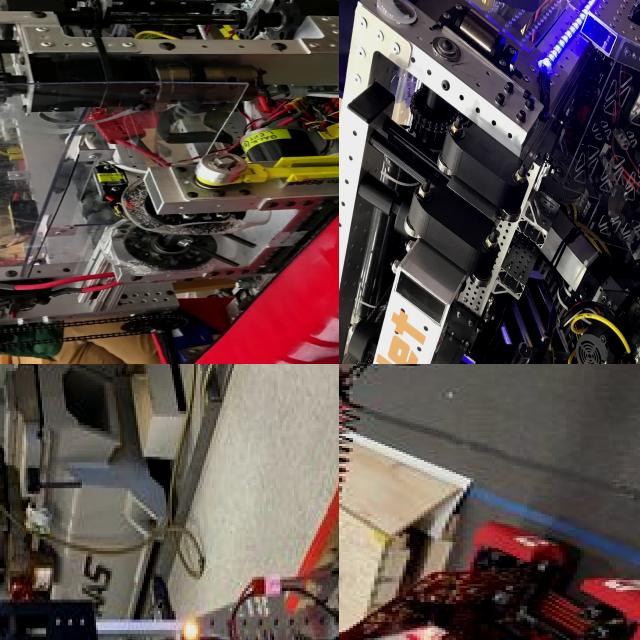FRC-Robots: (0, 0, 339, 364), (339, 364, 640, 640), (0, 427, 339, 640)
